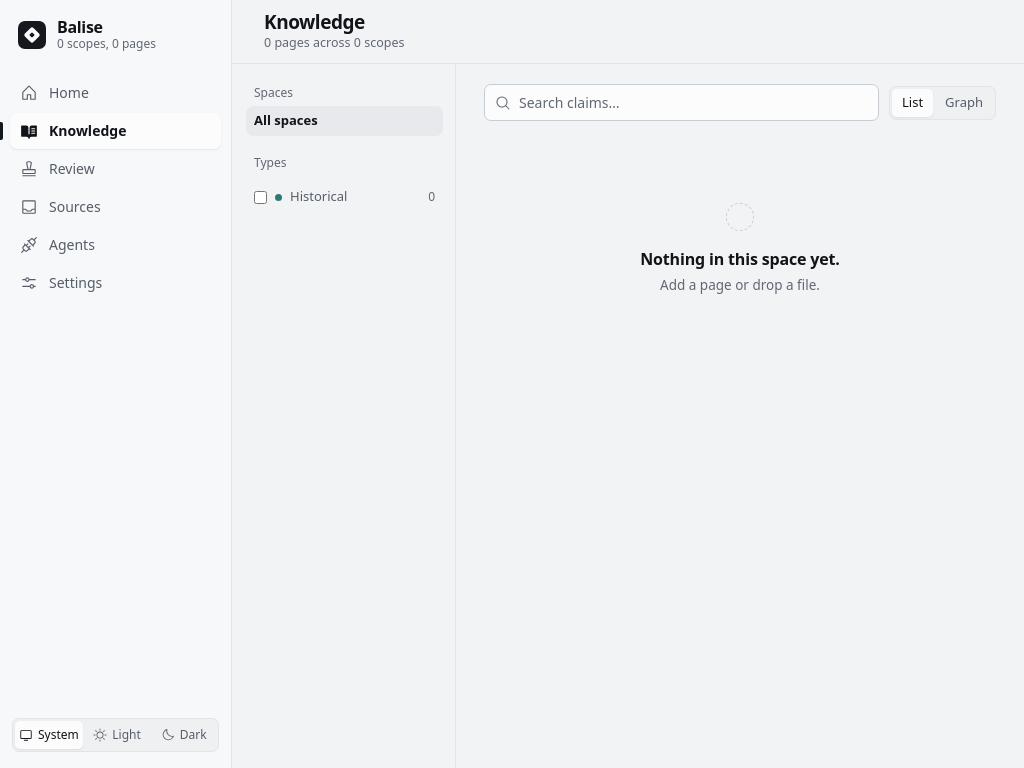
it: AppShell › renders the Settings screen (not the not-part-of-this-release fallback) when Settings is selected
This screenshot has width=1024, height=768.
Click the button "Settings": (116, 283) [10, 265, 221, 301]
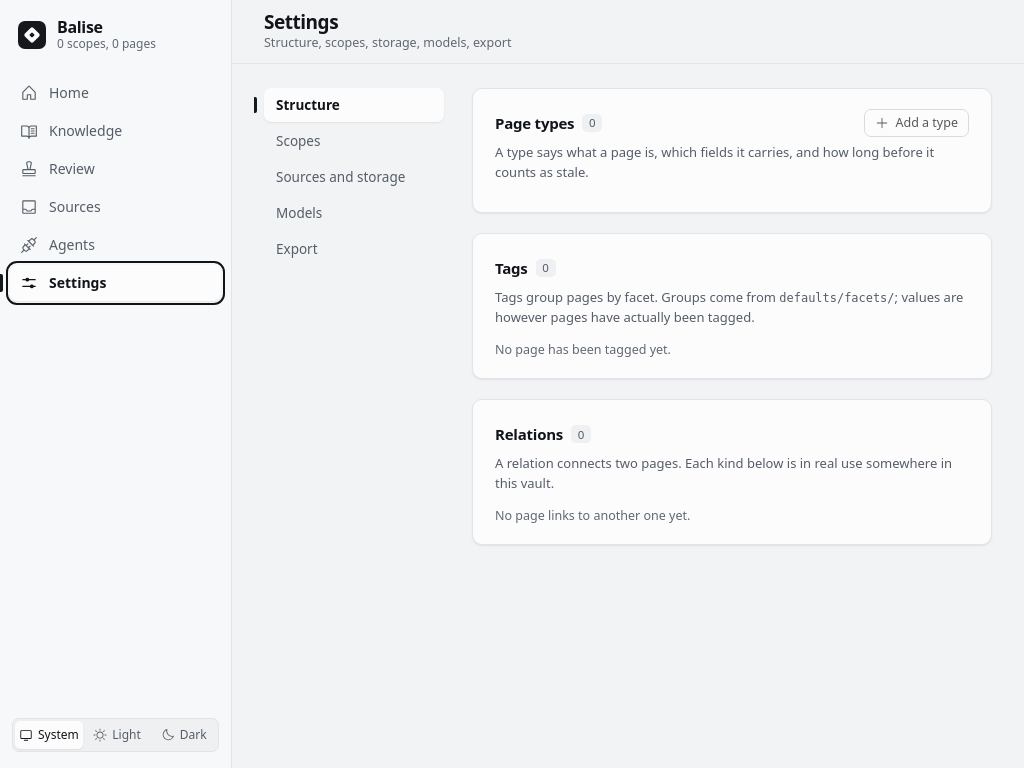
Expected: the navigation bar named "settings sections" is shown, [264, 88, 444, 266]
